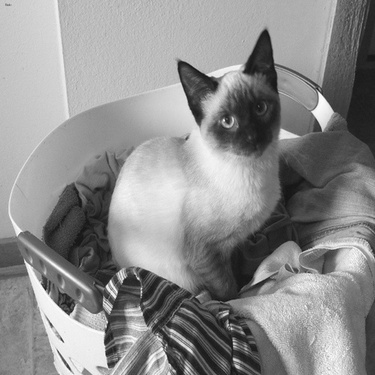cat: (101, 18, 295, 301)
